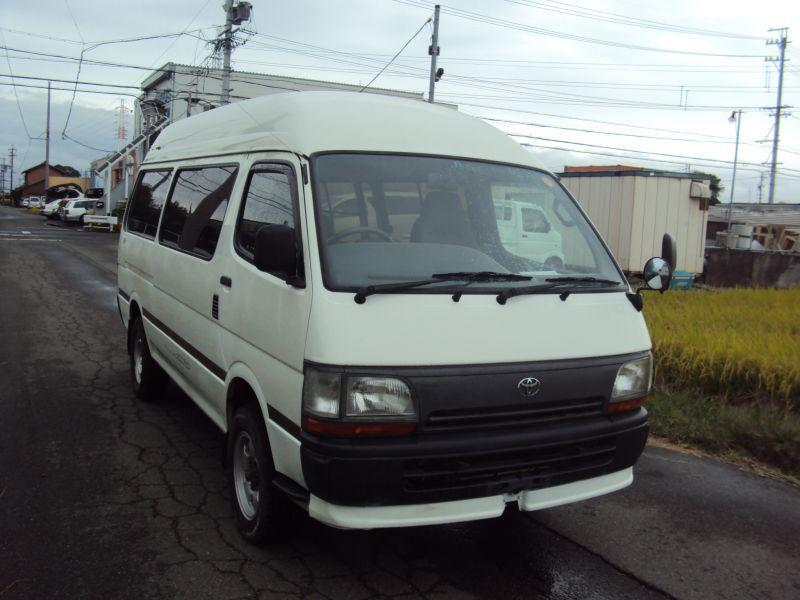van: (117, 82, 664, 528)
